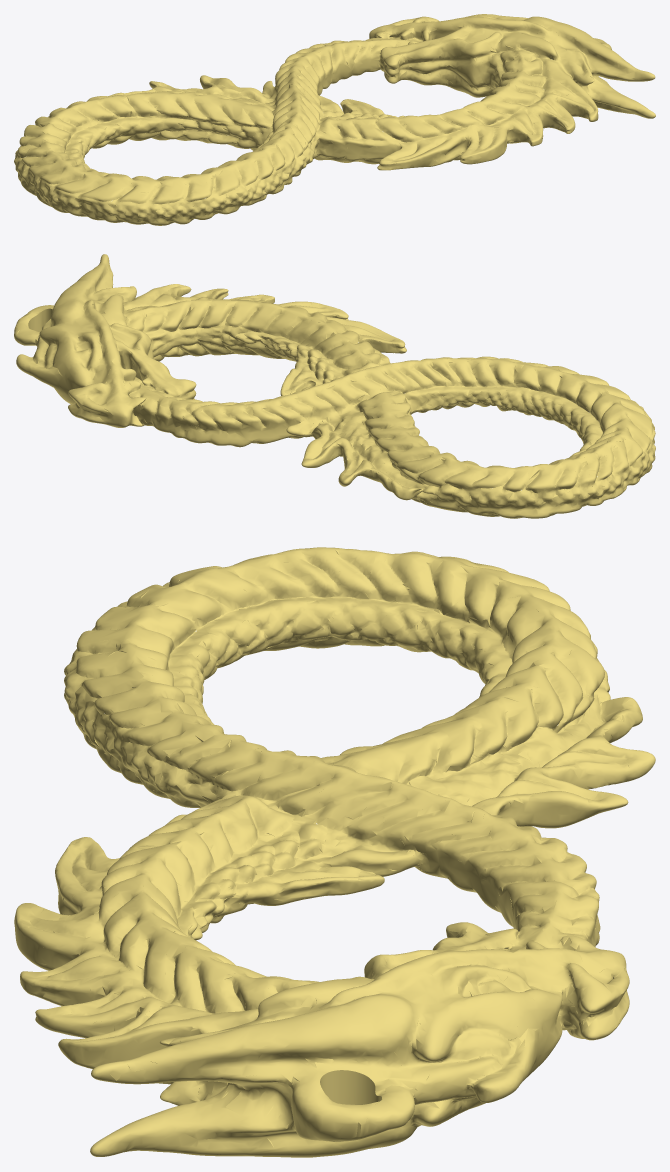
The model's file is ejderha.glb.
The picture shows the model from 3 angles, top to bottom: view 1: azimuth 30°, elevation 25°; view 2: azimuth 150°, elevation 25°; view 3: azimuth 270°, elevation 25°; orthographic projection. The views are drawn at different scales.
Visible parts, largest first — view 1: Renderer Node; view 2: Renderer Node; view 3: Renderer Node.
Part boxes in pixels (<box>): Renderer Node: <box>14,14,655,225</box>; Renderer Node: <box>14,254,655,518</box>; Renderer Node: <box>14,547,655,1157</box>.
Bounding box in the file's own units: 30.13 × 3.82 × 14.62.
